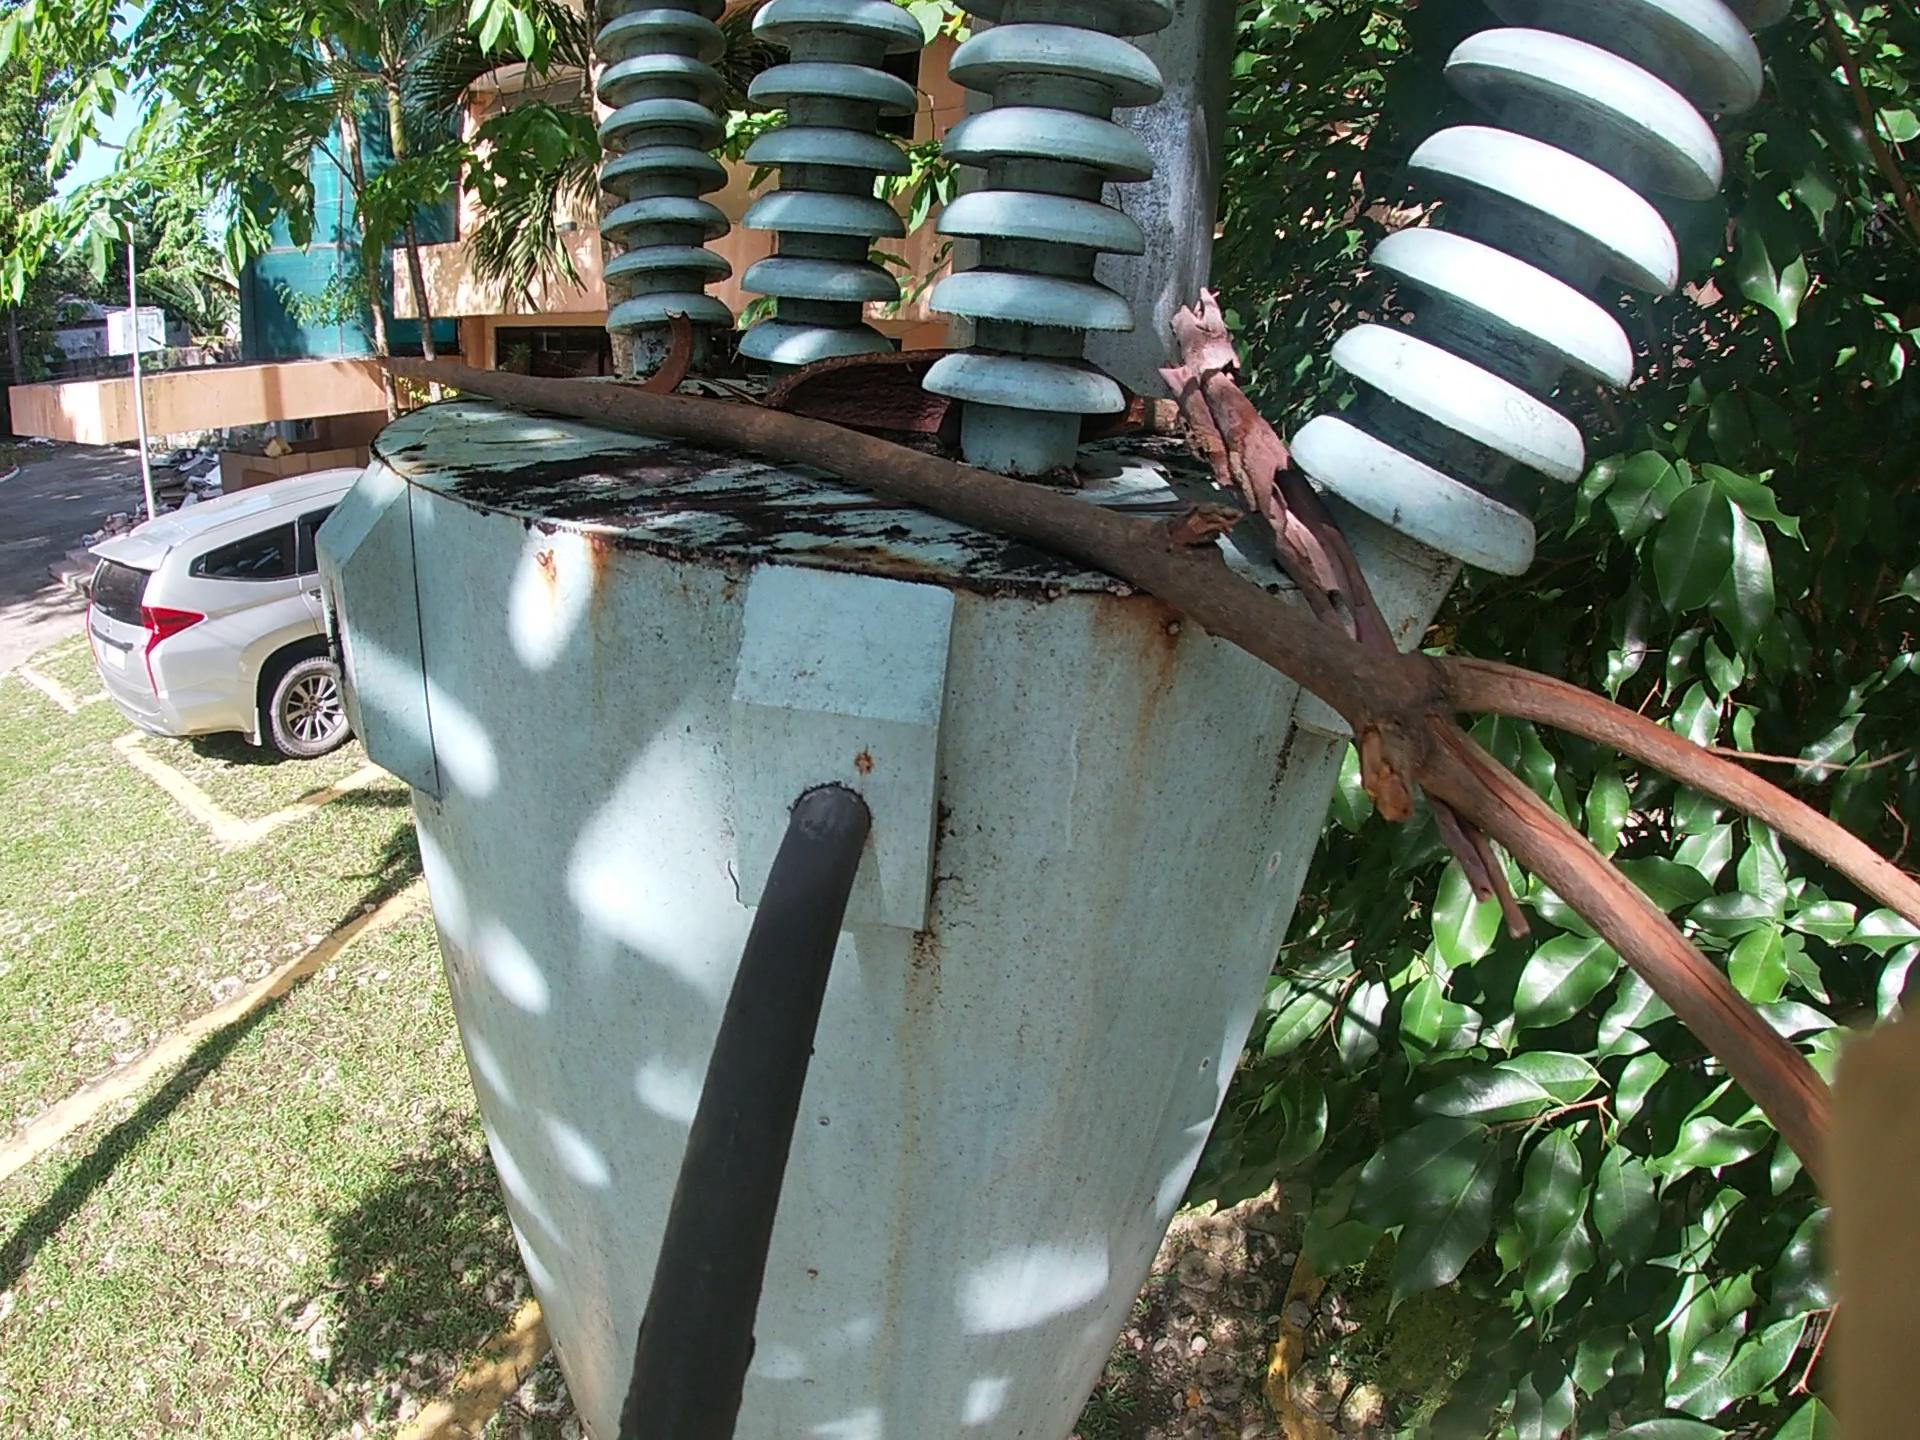mahogany fruit: (739, 348, 977, 436), (1079, 368, 1172, 442), (621, 315, 701, 398)
tree branch: (363, 352, 1914, 1224), (1157, 280, 1556, 939), (679, 495, 901, 523), (697, 368, 760, 413), (1092, 495, 1205, 519)
